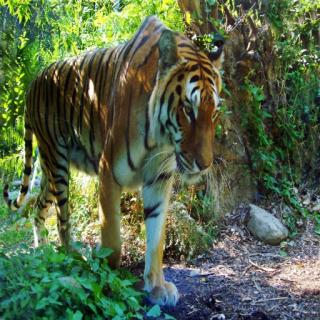Tiger: (0, 9, 257, 299)
